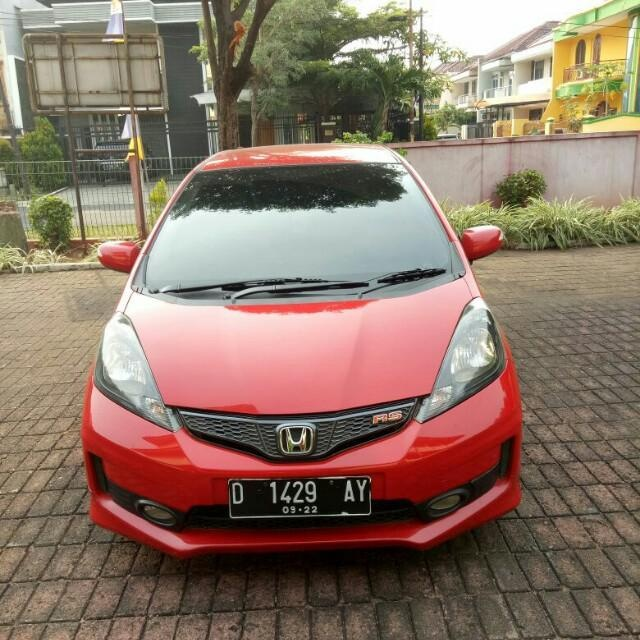plate: (226, 478, 370, 517)
